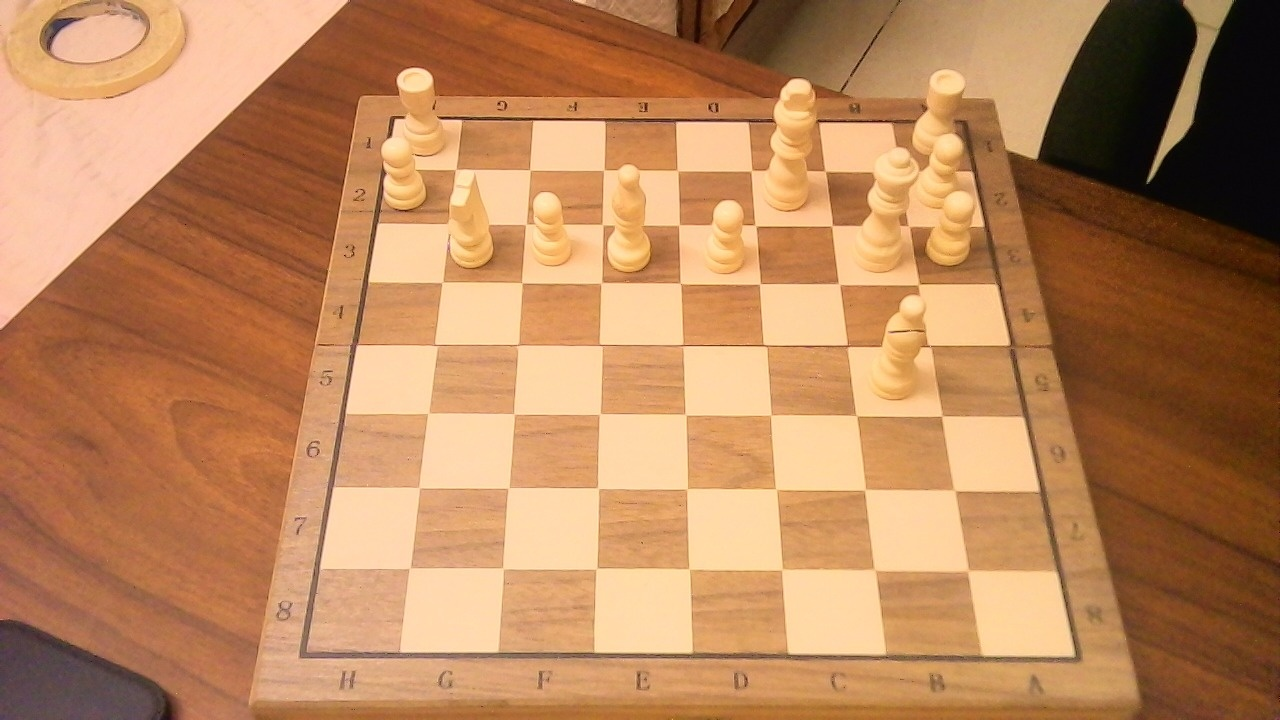B: (862, 283, 937, 405), (604, 153, 663, 276)
K: (758, 66, 826, 215)
N: (443, 162, 504, 272)
P: (920, 125, 985, 269), (694, 190, 754, 279), (377, 127, 433, 213), (525, 182, 578, 272)
Q: (846, 135, 924, 277)
R: (907, 59, 972, 160), (392, 57, 452, 160)
